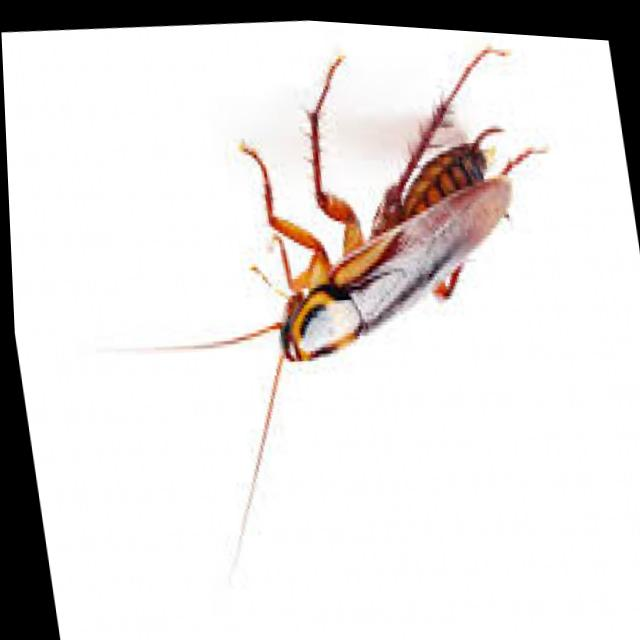Cockroach: (38, 2, 612, 633)
